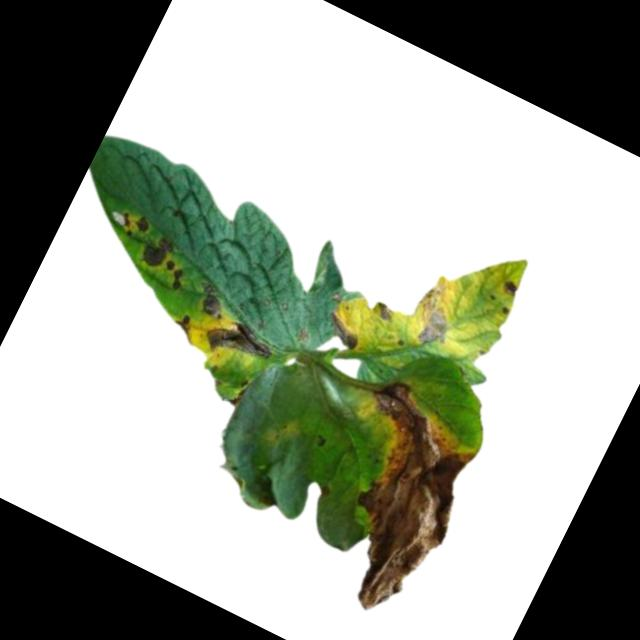Early_blight: (287, 376, 497, 628), (199, 310, 278, 374), (405, 284, 465, 352), (319, 310, 367, 354), (189, 281, 231, 323), (137, 232, 175, 272), (167, 309, 202, 346), (115, 206, 152, 240), (158, 259, 188, 292), (367, 299, 400, 329), (498, 279, 519, 301)
